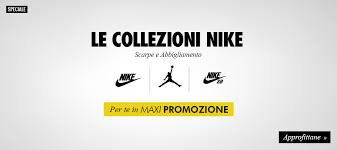nike: (113, 75, 143, 88), (200, 76, 228, 84)
